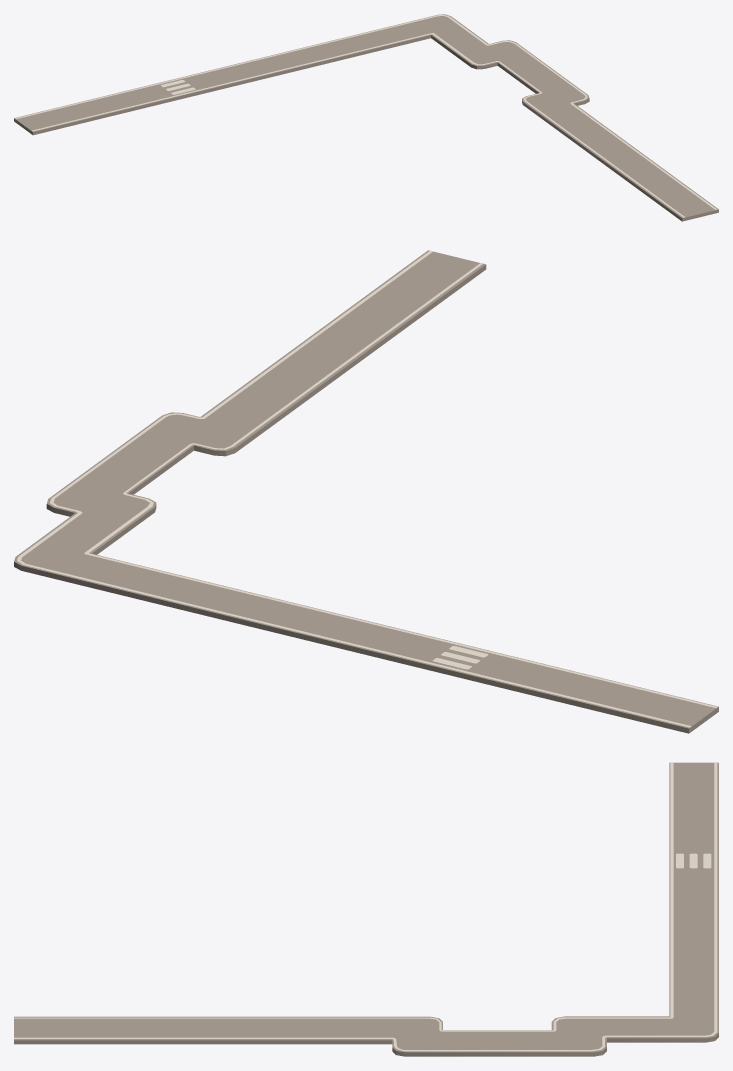
File: Road.fbx
3 views of the same model, one above another, from view 1: azimuth 30°, elevation 25°; view 2: azimuth 150°, elevation 25°; view 3: azimuth 270°, elevation 25° (orthographic). The views are drawn at different scales.
Parts seen in each view (by area): view 1: Road; view 2: Road; view 3: Road.
Boxes of the visible parts, x1,y1,x2,y2 form: Road: (14,14,718,221); Road: (14,250,718,733); Road: (14,762,718,1056).
Size of the model in its own units: 2134 by 15.48 by 2194.
